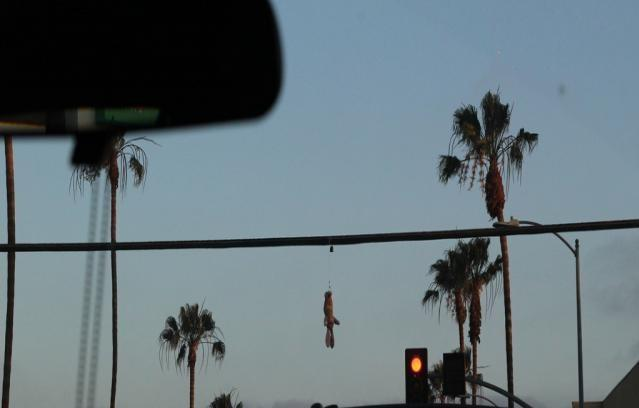red_light: (405, 348, 428, 408)
